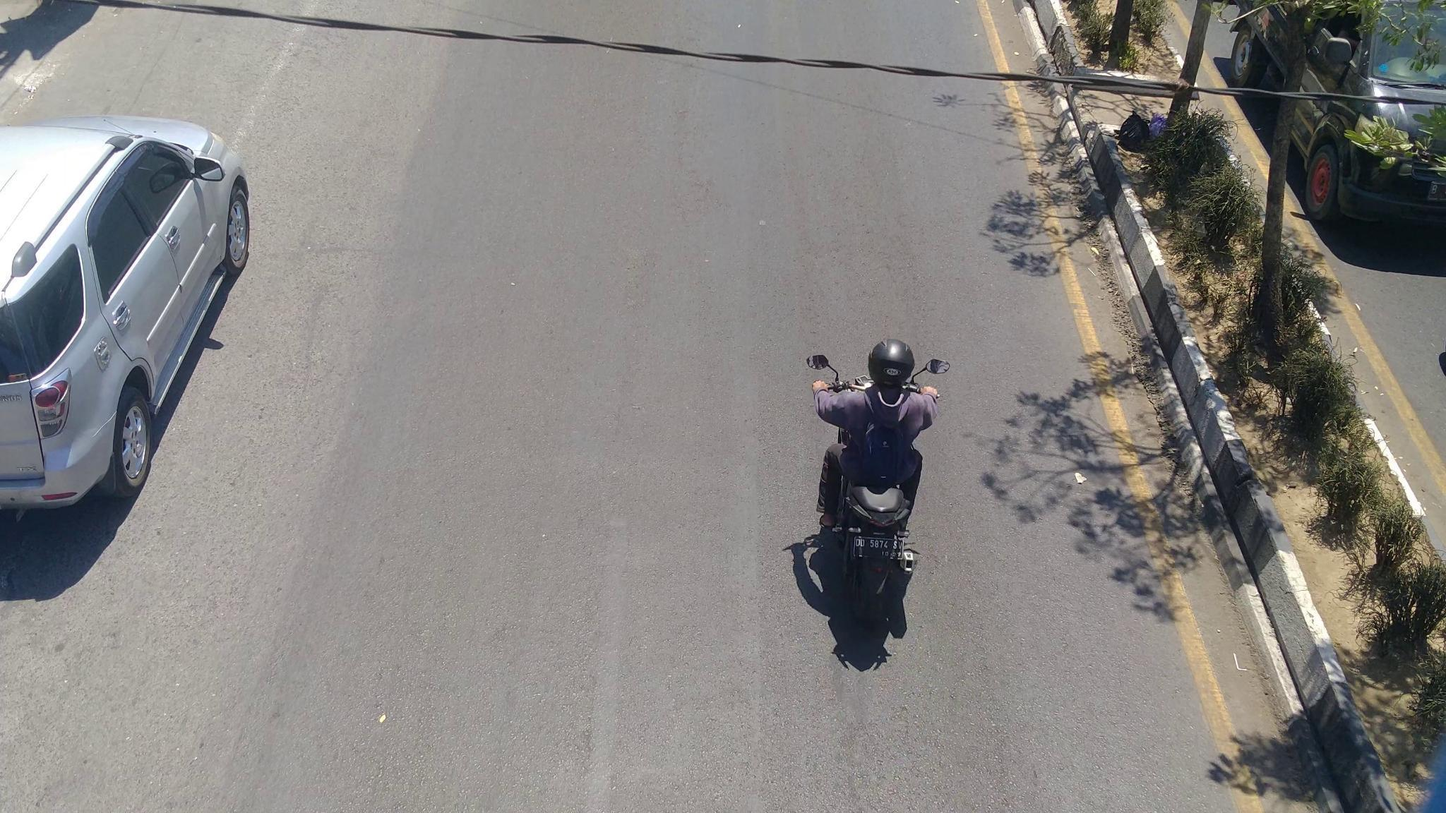Helmet: (861, 332, 924, 393)
bike: (804, 347, 954, 624)
number-plate: (851, 532, 906, 564)
rider: (814, 335, 942, 528)
